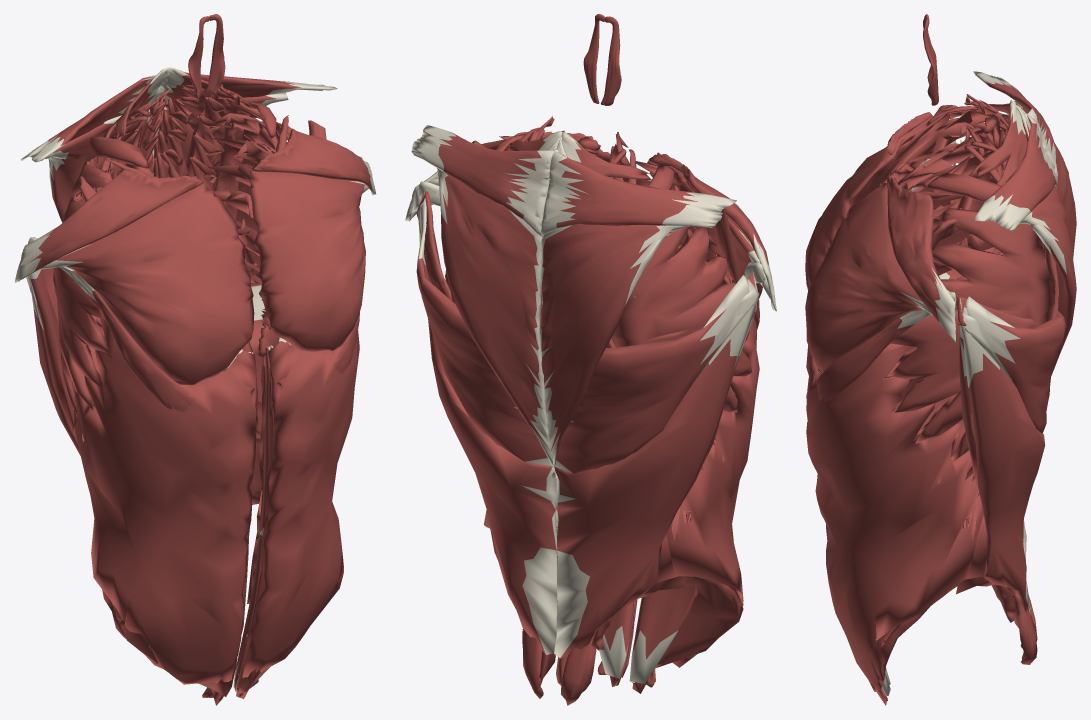
Rendered from muscular-trunk-mobile.glb.
3 renders of one model, left to right at view 1: azimuth 30°, elevation 25°; view 2: azimuth 150°, elevation 25°; view 3: azimuth 270°, elevation 25°, orthographic. The views are drawn at different scales.
Visible parts, largest first — view 1: za.external-abdominal-oblique-muscle-r, za.sternocostal-head-of-pectoralis-major-muscle-r, za.external-abdominal-oblique-muscle-l, za.sternocostal-head-of-pectoralis-major-muscle-l, za.clavicular-head-of-pectoralis-major-muscle-r, za.serratus-anterior-muscle-r, za.clavicular-head-of-pectoralis-major-muscle-l, za.latissimus-dorsi-muscle-r, za.abdominal-part-of-pectoralis-major-muscle-r, za.descending-part-of-trapezius-muscle-r, za.transverse-part-of-trapezius-muscle-r, za.internal-abdominal-oblique-muscle-l (+21 smaller); view 2: za.latissimus-dorsi-muscle-r, za.latissimus-dorsi-muscle-l, za.descending-part-of-trapezius-muscle-l, za.descending-part-of-trapezius-muscle-r, za.external-abdominal-oblique-muscle-r, za.serratus-anterior-muscle-r, za.transverse-part-of-trapezius-muscle-r, za.transverse-part-of-trapezius-muscle-l, za.transversus-abdominis-muscle-r, za.rectus-abdominis-muscle-r, za.clavicular-head-of-pectoralis-major-muscle-r, za.rectus-abdominis-muscle-l (+11 smaller); view 3: za.external-abdominal-oblique-muscle-l, za.latissimus-dorsi-muscle-l, za.serratus-anterior-muscle-l, za.sternocostal-head-of-pectoralis-major-muscle-l, za.clavicular-head-of-pectoralis-major-muscle-l, za.transverse-part-of-trapezius-muscle-l, za.sternocostal-head-of-pectoralis-major-muscle-r, za.descending-part-of-trapezius-muscle-l, za.innermost-intercostal-muscles-r, za.abdominal-part-of-pectoralis-major-muscle-l, za.external-intercostal-muscles-l, za.serratus-posterior-superior-muscle-l (+13 smaller).
Boxes of the visible parts, box(x1,y1,x2,y2) form: za.external-abdominal-oblique-muscle-r: box(73, 318, 256, 684); za.sternocostal-head-of-pectoralis-major-muscle-r: box(38, 183, 254, 385); za.external-abdominal-oblique-muscle-l: box(242, 330, 359, 677); za.sternocostal-head-of-pectoralis-major-muscle-l: box(250, 170, 368, 351); za.clavicular-head-of-pectoralis-major-muscle-r: box(14, 169, 203, 282); za.serratus-anterior-muscle-r: box(53, 136, 148, 415); za.clavicular-head-of-pectoralis-major-muscle-l: box(251, 128, 376, 195); za.latissimus-dorsi-muscle-r: box(26, 268, 80, 455); za.abdominal-part-of-pectoralis-major-muscle-r: box(28, 237, 194, 412); za.descending-part-of-trapezius-muscle-r: box(45, 115, 121, 222); za.transverse-part-of-trapezius-muscle-r: box(21, 75, 160, 162); za.internal-abdominal-oblique-muscle-l: box(238, 346, 343, 693); za.latissimus-dorsi-muscle-r: box(554, 271, 759, 658); za.latissimus-dorsi-muscle-l: box(416, 191, 557, 654); za.descending-part-of-trapezius-muscle-l: box(437, 168, 555, 468); za.descending-part-of-trapezius-muscle-r: box(540, 223, 686, 469); za.external-abdominal-oblique-muscle-r: box(666, 318, 759, 667); za.serratus-anterior-muscle-r: box(611, 165, 751, 445); za.transverse-part-of-trapezius-muscle-r: box(540, 149, 736, 236); za.transverse-part-of-trapezius-muscle-l: box(411, 125, 558, 237); za.transversus-abdominis-muscle-r: box(632, 438, 740, 693); za.rectus-abdominis-muscle-r: box(629, 585, 697, 683); za.clavicular-head-of-pectoralis-major-muscle-r: box(648, 152, 776, 311); za.rectus-abdominis-muscle-l: box(599, 601, 634, 679); za.external-abdominal-oblique-muscle-l: box(806, 343, 983, 690); za.latissimus-dorsi-muscle-l: box(959, 296, 1066, 615); za.serratus-anterior-muscle-l: box(889, 173, 1054, 462); za.sternocostal-head-of-pectoralis-major-muscle-l: box(805, 182, 955, 372); za.clavicular-head-of-pectoralis-major-muscle-l: box(887, 174, 955, 343); za.transverse-part-of-trapezius-muscle-l: box(973, 113, 1057, 231); za.sternocostal-head-of-pectoralis-major-muscle-r: box(805, 140, 927, 290); za.descending-part-of-trapezius-muscle-l: box(1019, 184, 1076, 375); za.innermost-intercostal-muscles-r: box(884, 122, 1004, 246); za.abdominal-part-of-pectoralis-major-muscle-l: box(816, 292, 956, 401); za.external-intercostal-muscles-l: box(896, 155, 1002, 498); za.serratus-posterior-superior-muscle-l: box(969, 101, 1027, 185).
Bounding box in the file's own units: 0.4002 × 0.71 × 0.2562.
